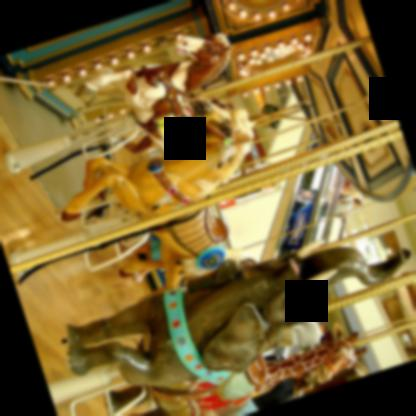handbag: (338, 195, 349, 204)
